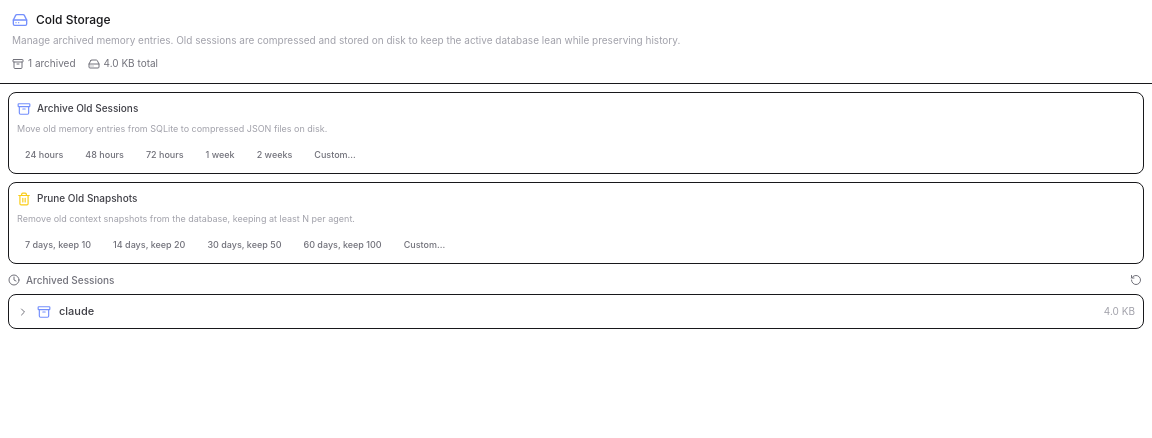
Scenario: ColdStoragePanel › archived sessions list › expands a session row to show details on click
Click the text "claude": (77, 312) [59,303,94,320]
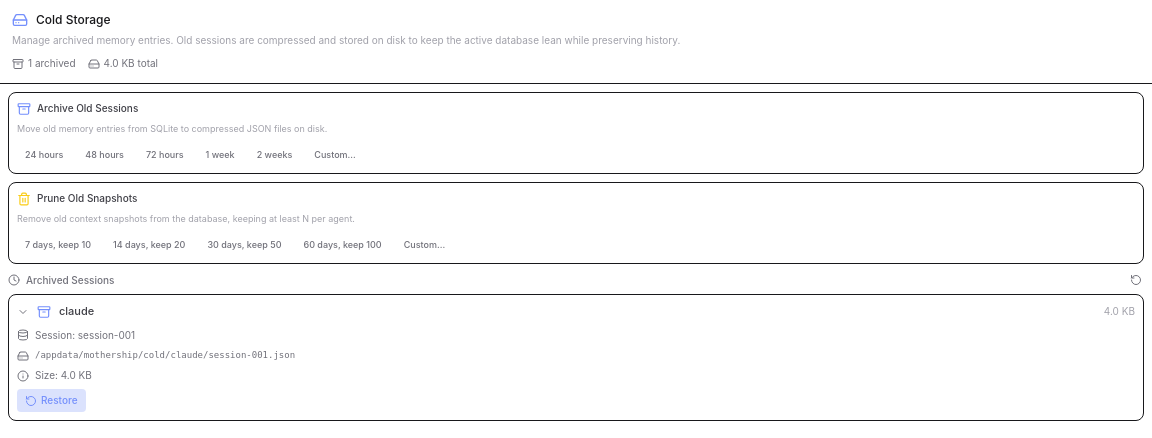
Check: the text "Session: session-001" is shown, box [35,328,135,343]
Check: the text "/appdata/mothership/cold/claude/session-001.json" is shown, box [35,349,295,362]
Check: the text "Size: 4.0 KB" is shown, box [35,368,92,383]
